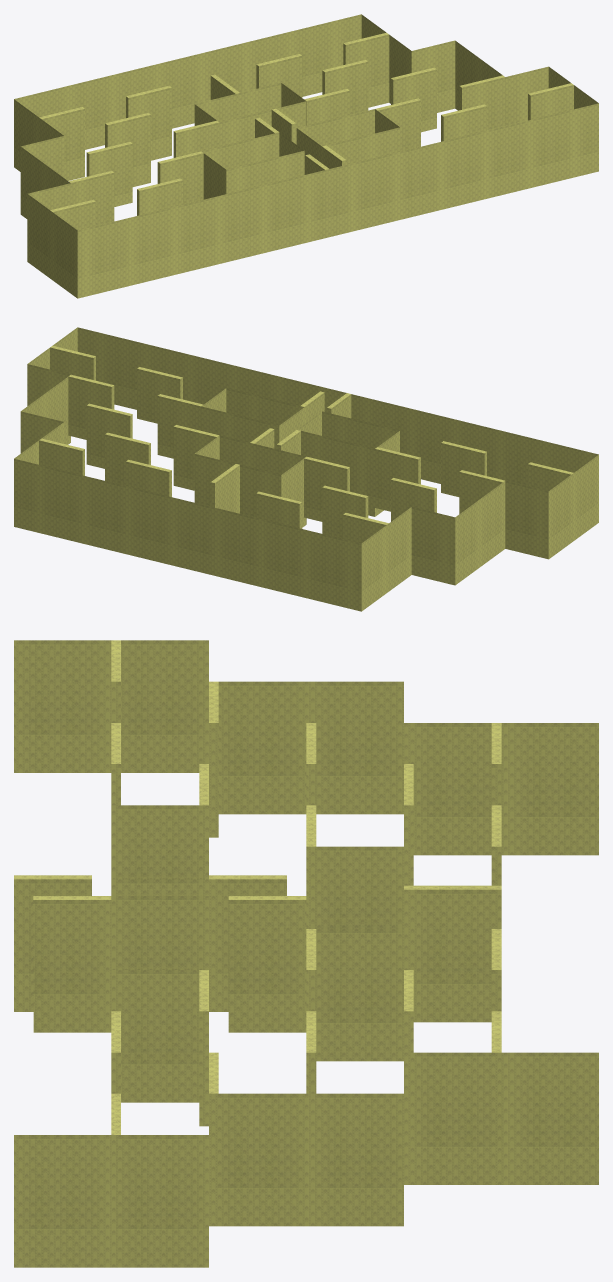
File: SM_Backrooms_00.fbx
3 views of the same model, one above another, from view 1: azimuth 30°, elevation 25°; view 2: azimuth 150°, elevation 25°; view 3: azimuth 270°, elevation 25° (orthographic). The views are drawn at different scales.
Parts seen in each view (by area): view 1: SM_Backrooms_00; view 2: SM_Backrooms_00; view 3: SM_Backrooms_00.
Part boxes in pixels (x1=…): SM_Backrooms_00: x1=14, y1=14, x2=598, y2=298; SM_Backrooms_00: x1=14, y1=327, x2=598, y2=611; SM_Backrooms_00: x1=14, y1=640, x2=598, y2=1267.
Size of the model in its own units: 6000 by 750 by 3000.
